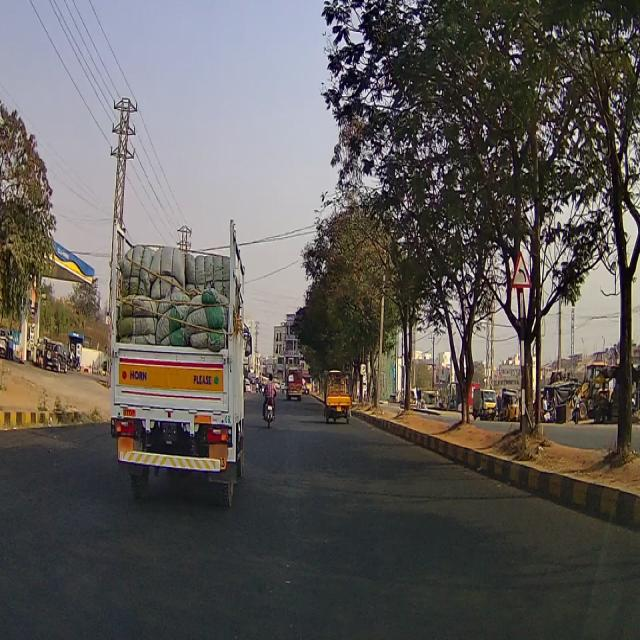left-hand-curve: (509, 245, 534, 288)
